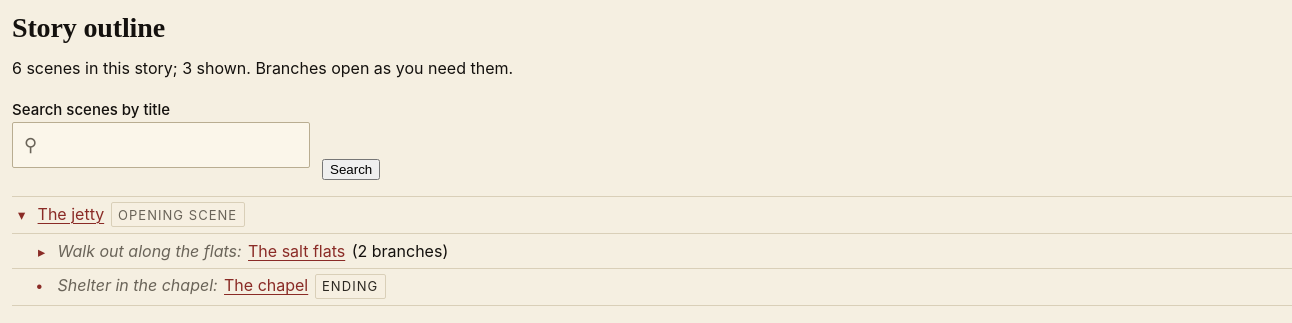
Test: collapsing branches › folds a branch away and reports how many choices it holds
Expected: the link "The salt flats" is shown, [248, 240, 345, 262]
What coordinates should you click on to do the following:
click the button with test id "outline-toggle" showing "▾"
I would click on:
 (22, 215)
Its box is [12, 207, 31, 223].
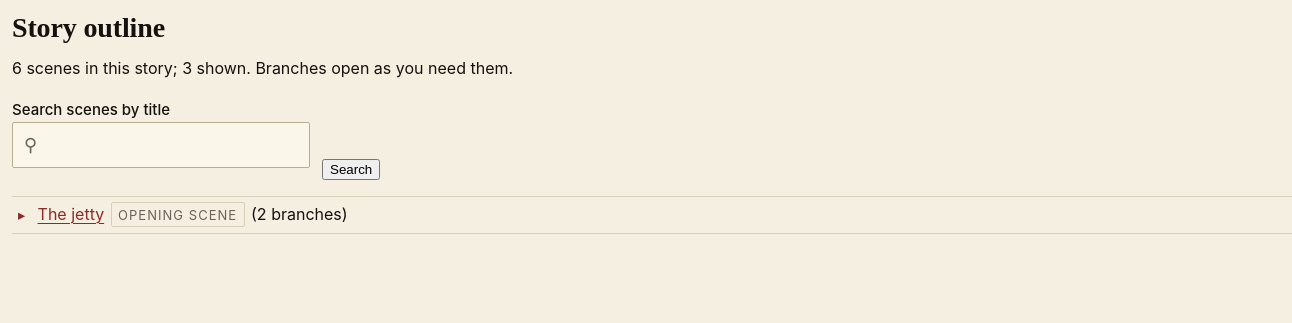
Result: the link "The salt flats" is gone
Result: the list item with test id "outline-node" is collapsed at [12, 197, 1291, 234]
Result: the list item with test id "outline-node" shows "2 branches" at [12, 197, 1291, 234]
